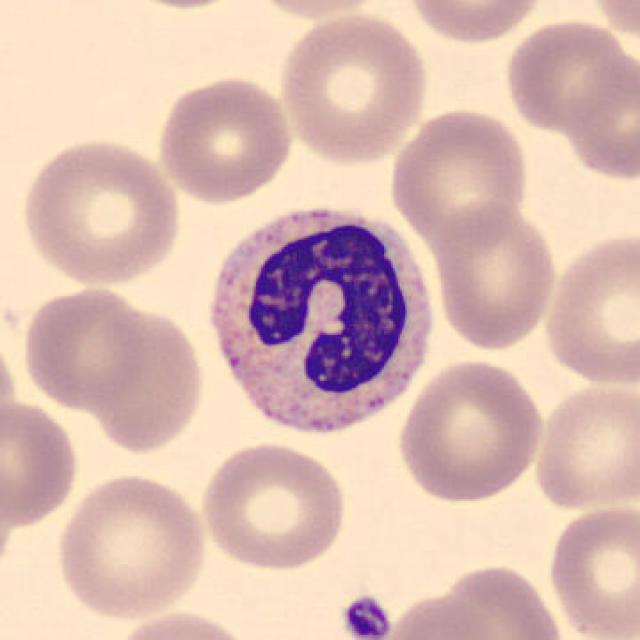Neutrophil: (197, 192, 443, 446)
Platelets: (338, 592, 394, 640)
RBC: (16, 132, 185, 289), (274, 7, 432, 168), (52, 469, 212, 622), (394, 354, 548, 506), (386, 104, 533, 247), (197, 439, 352, 573), (430, 201, 560, 353), (82, 301, 210, 455), (153, 72, 297, 206), (19, 284, 153, 412), (502, 16, 636, 136), (539, 227, 638, 388), (528, 377, 638, 513), (544, 499, 638, 640), (558, 42, 640, 187), (0, 395, 84, 531), (432, 560, 570, 640), (400, 0, 551, 46), (380, 590, 508, 640), (105, 606, 258, 640), (238, 0, 398, 21), (579, 0, 640, 44), (101, 0, 255, 12)
